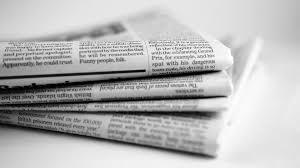Printing industry: (0, 12, 272, 162)
